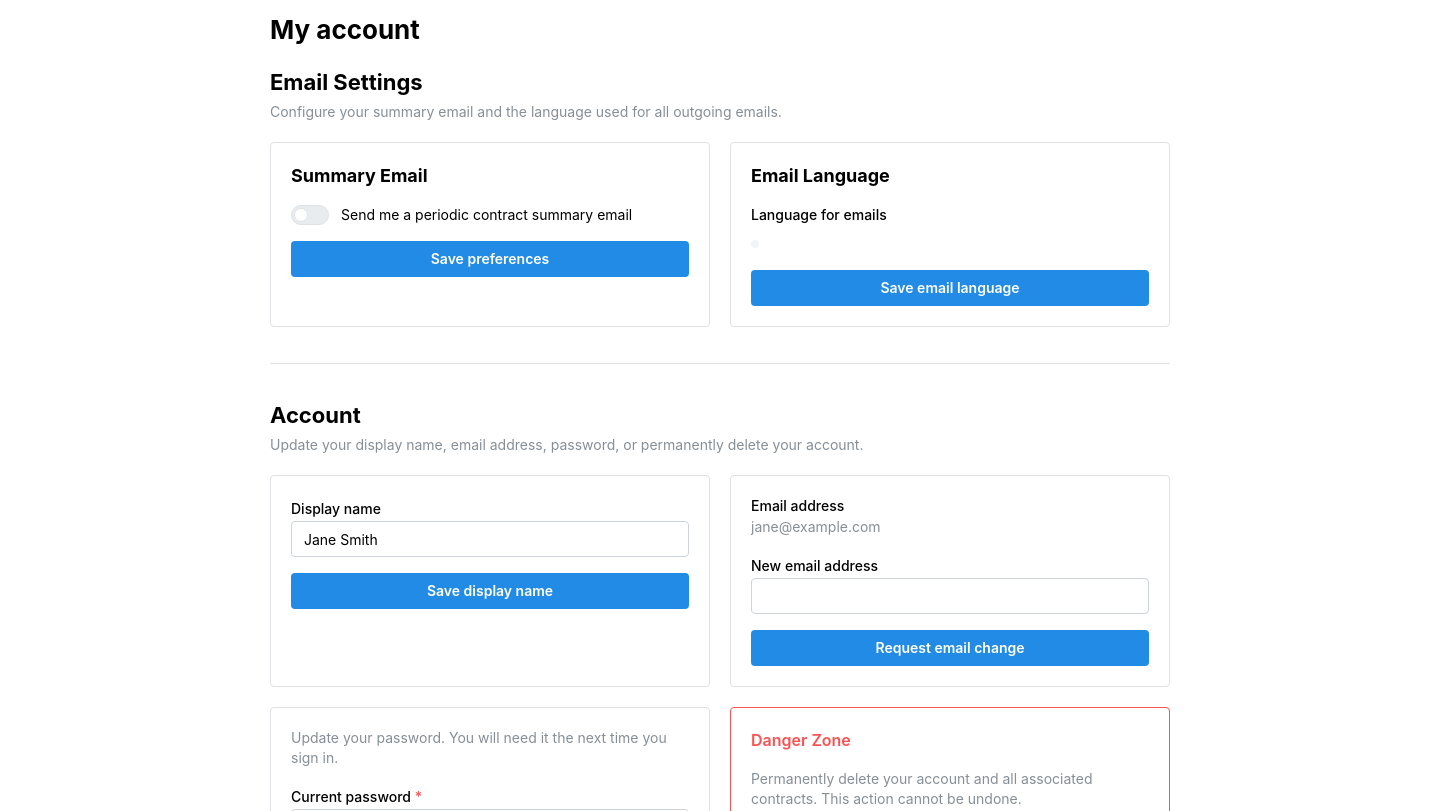
Scenario: AccountSettings – Display Name section › shows a success toast after saving display name
Replace the text in the field labelled "Display name" with "New Name": {"x": 490, "y": 539} [291,521,689,557]
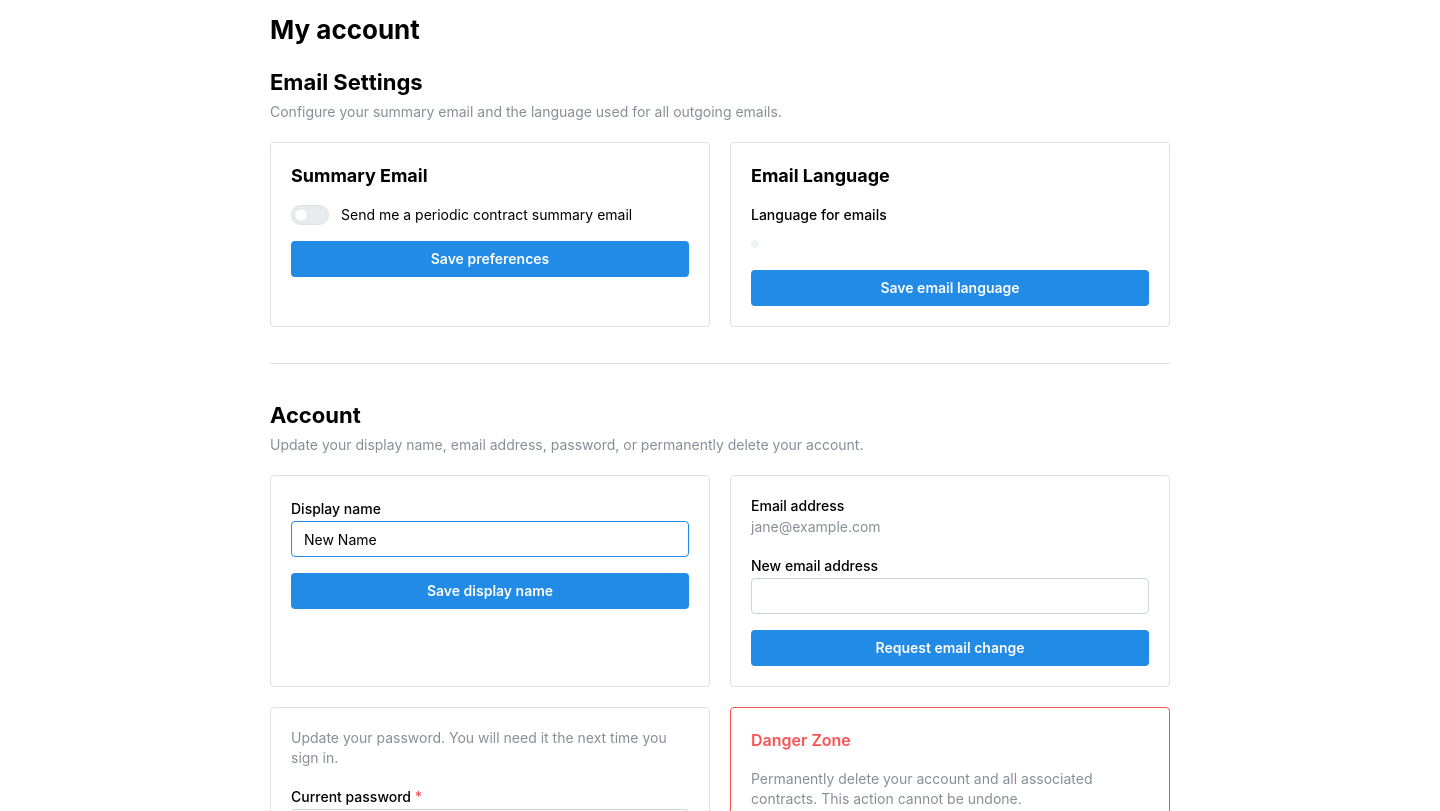
Click the button "Save display name": {"x": 490, "y": 591} [291,573,689,609]
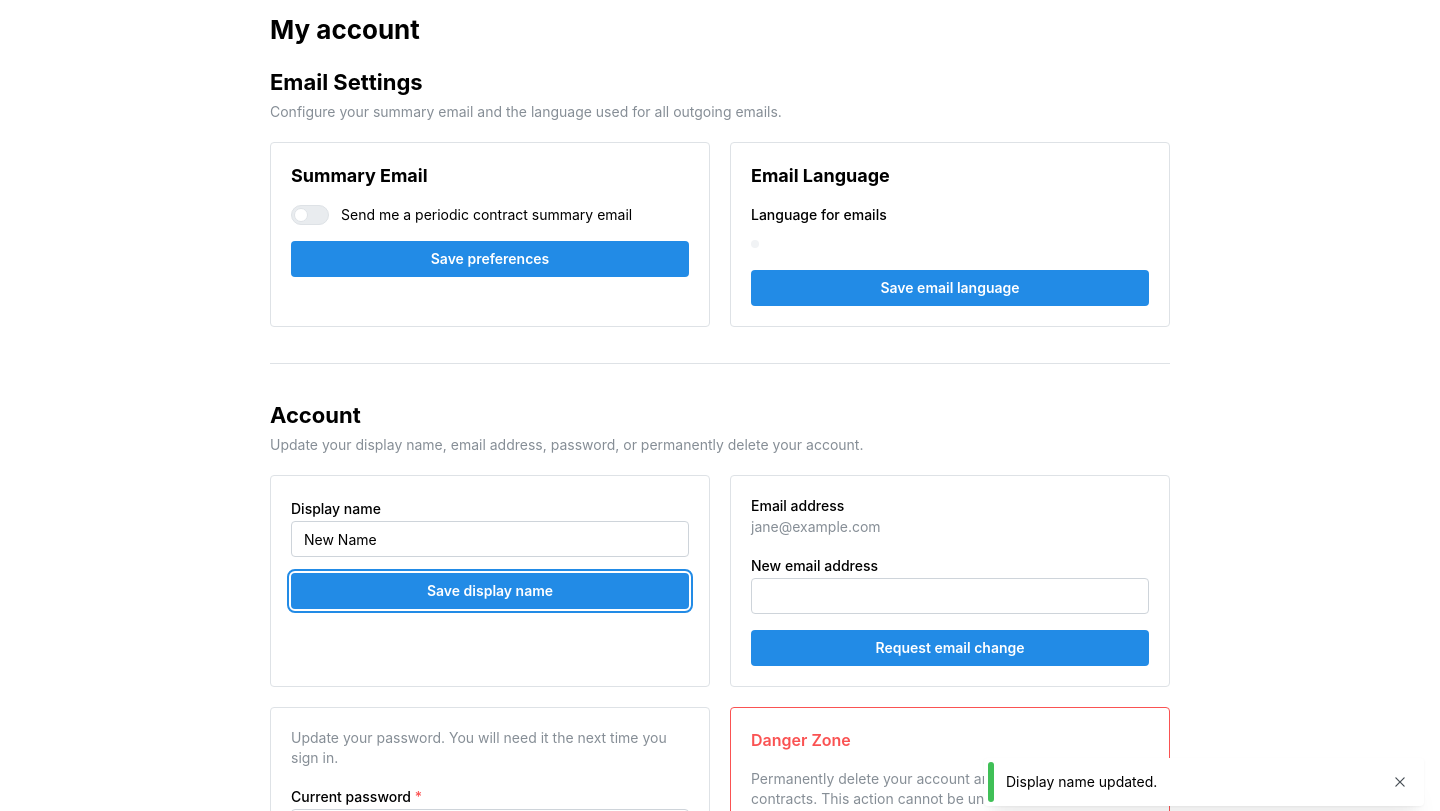
Check: the text "Display name updated." is shown, box [1006,773,1157,790]
